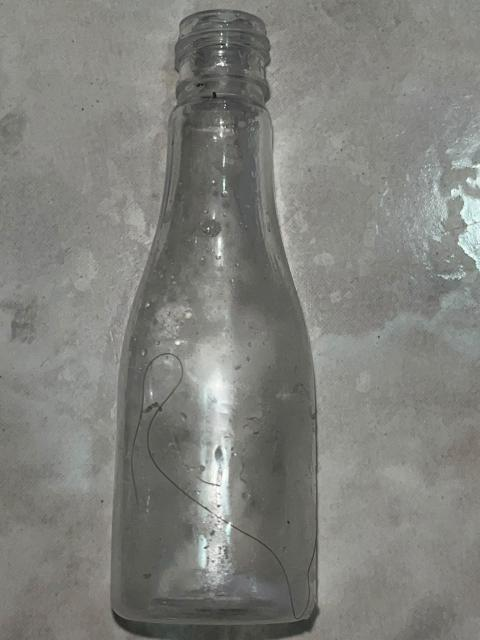PET: (112, 8, 333, 633)
